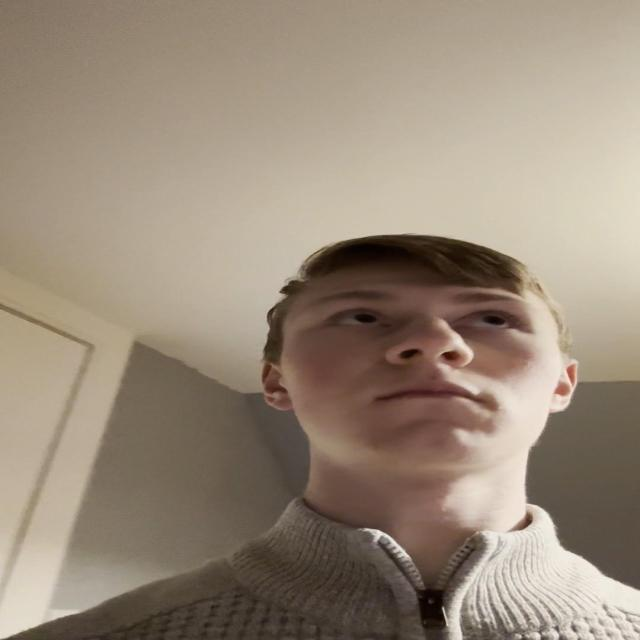no-helmet: (261, 249, 569, 497)
